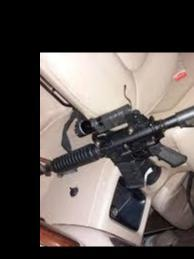larga: (39, 104, 194, 190)
